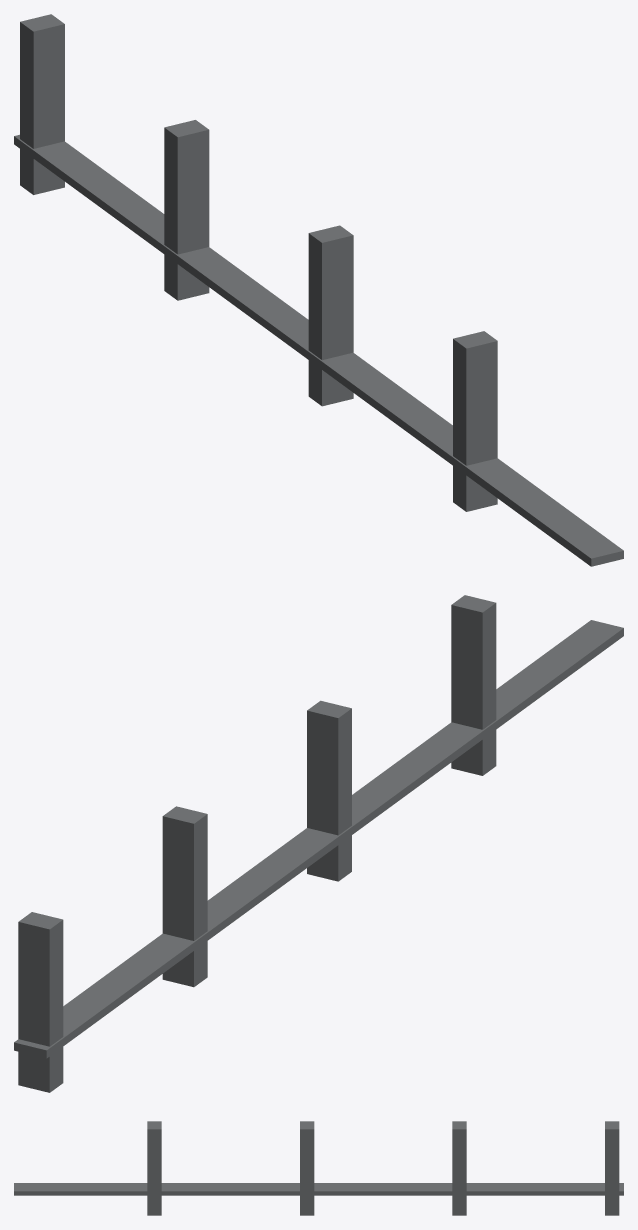
The model's file is columnaIzq.obj.
3 views of the same model, one above another, from view 1: azimuth 30°, elevation 25°; view 2: azimuth 150°, elevation 25°; view 3: azimuth 270°, elevation 25° (orthographic). The views are drawn at different scales.
Visible parts, largest first — view 1: Plane.019, Plane.020; view 2: Plane.019, Plane.020; view 3: Plane.020, Plane.019.
Boxes of the visible parts, box(x1,y1,x2,y2) form: Plane.019: box(20, 14, 497, 511); Plane.020: box(14, 134, 623, 566); Plane.019: box(18, 595, 496, 1092); Plane.020: box(14, 620, 623, 1058); Plane.020: box(14, 1183, 623, 1195); Plane.019: box(147, 1121, 619, 1215).
Bounding box in the file's own units: 2.1 × 10 × 64.
Materials: 2 (2 with a texture image).
